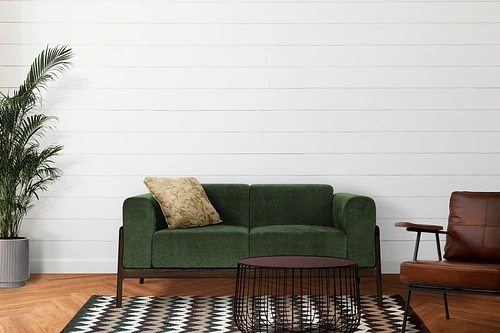chair: (394, 189, 500, 333)
large plant: (0, 44, 74, 289)
sofa: (115, 175, 385, 311)
table: (233, 254, 362, 333)
